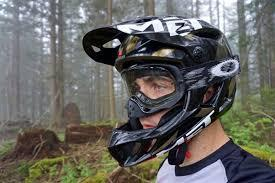helmet: (70, 12, 256, 168)
